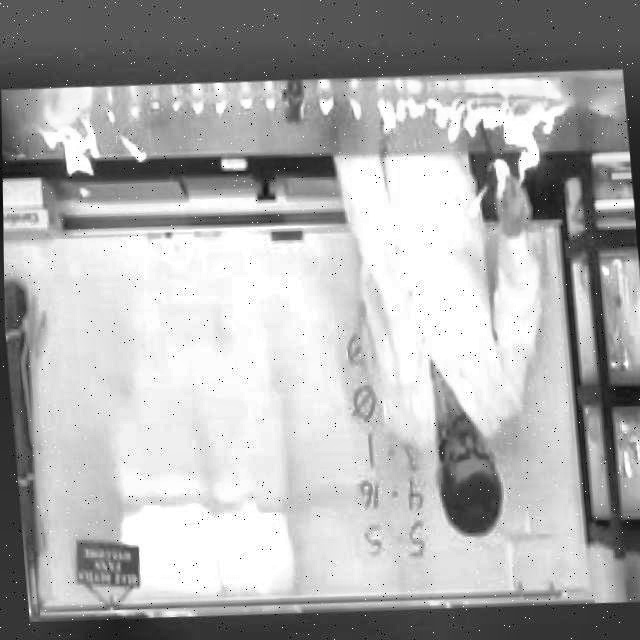Fire: (386, 81, 579, 200), (34, 110, 106, 186)
